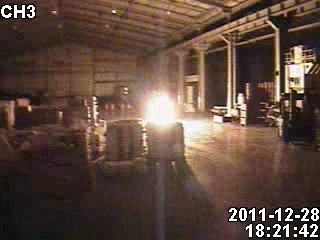fire: (144, 90, 179, 127)
